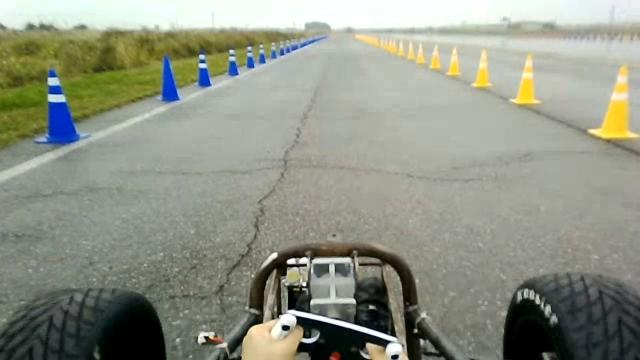blue cone: (34, 68, 89, 144), (157, 54, 180, 102), (196, 50, 212, 88), (227, 47, 239, 76), (246, 44, 255, 68), (228, 60, 239, 76), (258, 42, 266, 64), (270, 42, 278, 60), (278, 40, 286, 56)
yellow cone: (586, 64, 638, 140), (509, 54, 542, 105), (472, 48, 492, 88), (612, 65, 630, 99), (446, 46, 461, 76), (429, 45, 440, 69), (416, 42, 425, 64), (407, 40, 415, 60), (397, 39, 405, 57)
